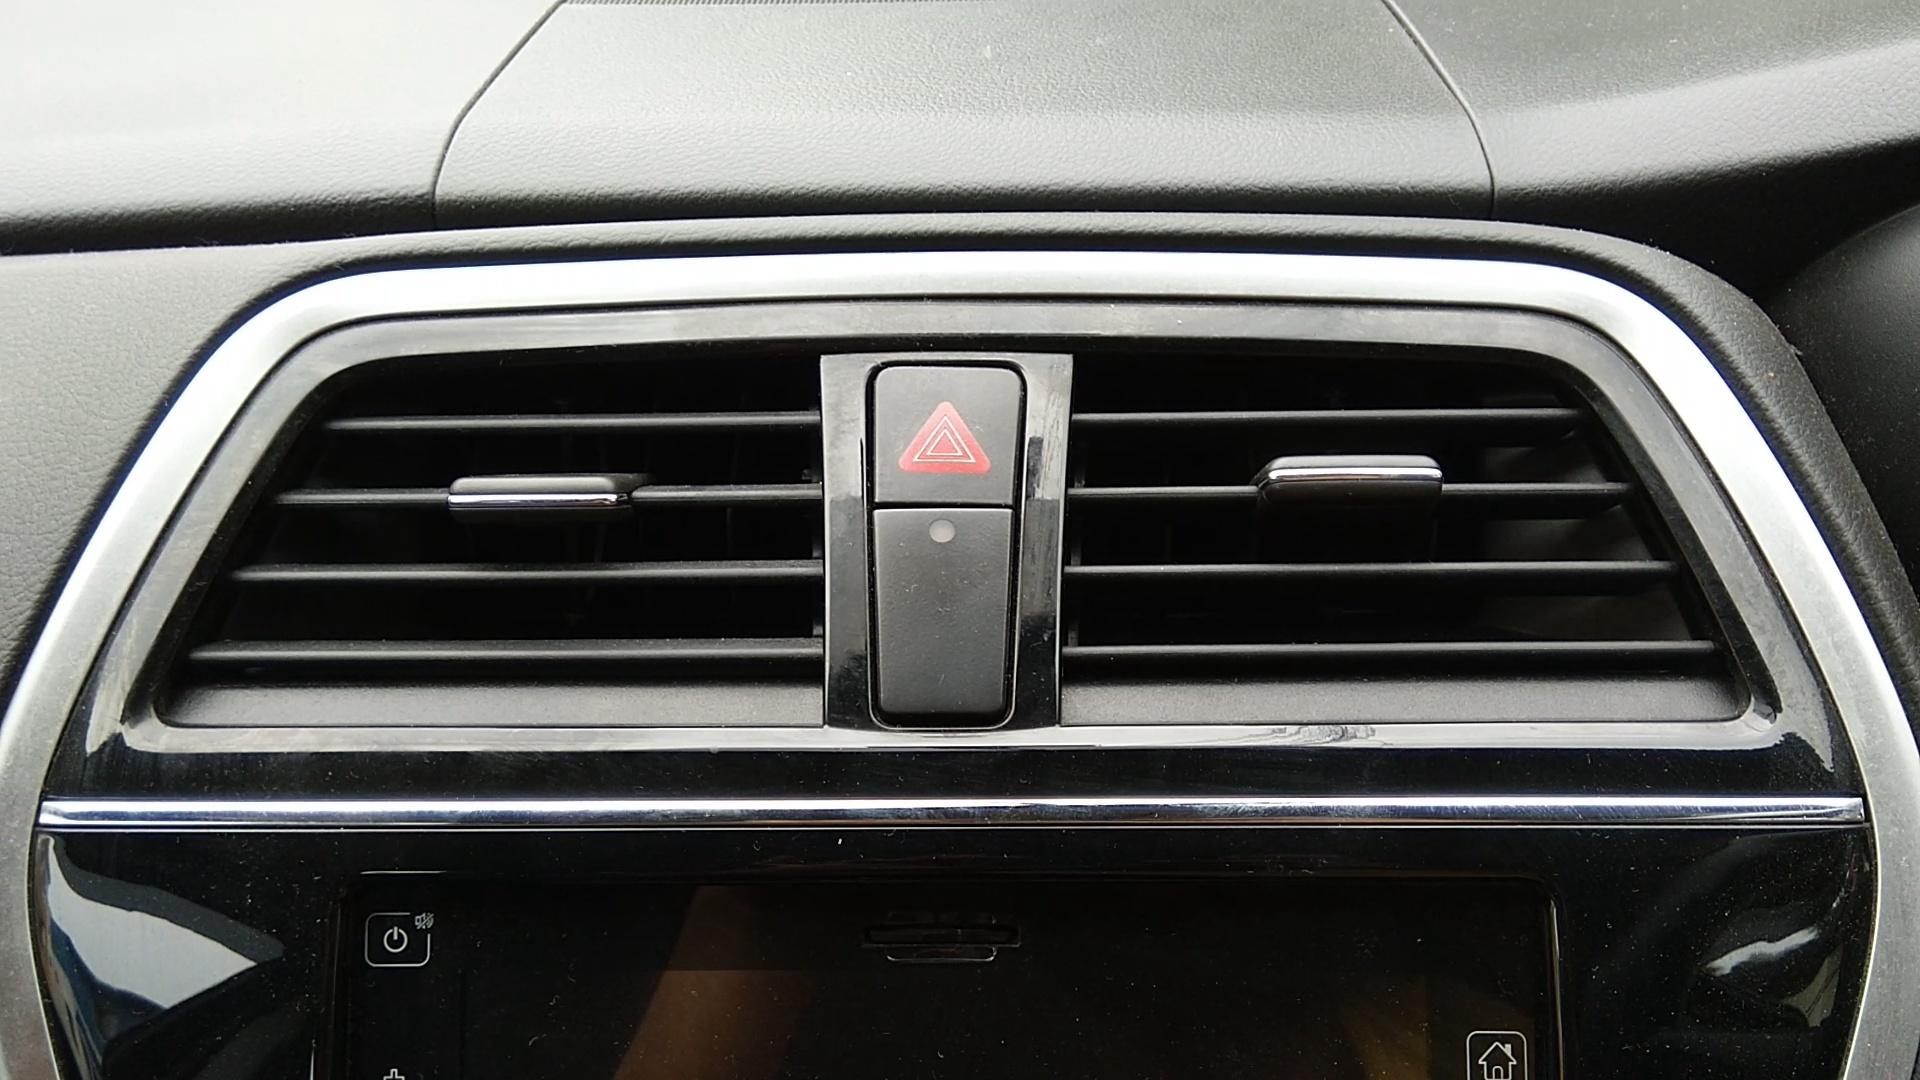parking_button: (886, 377, 1019, 491)
